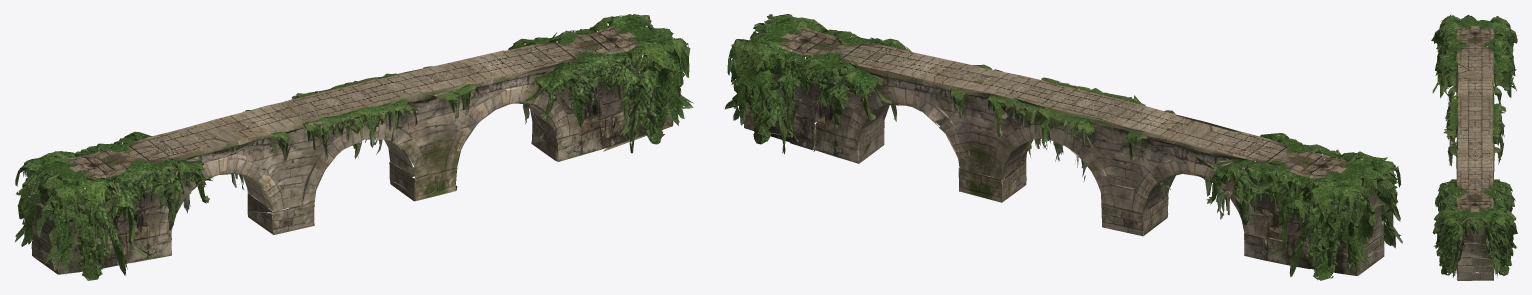
File: LongBridge.fbx
3 renders of one model, left to right at view 1: azimuth 30°, elevation 25°; view 2: azimuth 150°, elevation 25°; view 3: azimuth 270°, elevation 25°, orthographic. The views are drawn at different scales.
Parts seen in each view (by area): view 1: LongBridge; view 2: LongBridge; view 3: LongBridge.
Part boxes in pixels (x1,y1,x2,y2): LongBridge: [14, 14, 693, 280]; LongBridge: [725, 14, 1402, 280]; LongBridge: [1431, 14, 1517, 280].
Size of the model in its own units: 23.98 by 3.89 by 4.09.
1 material, 1 textured.
